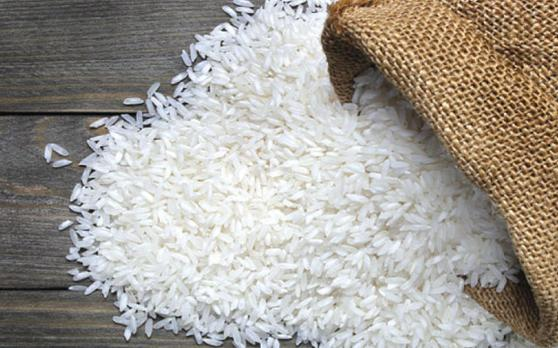rice: (183, 105, 414, 295)
